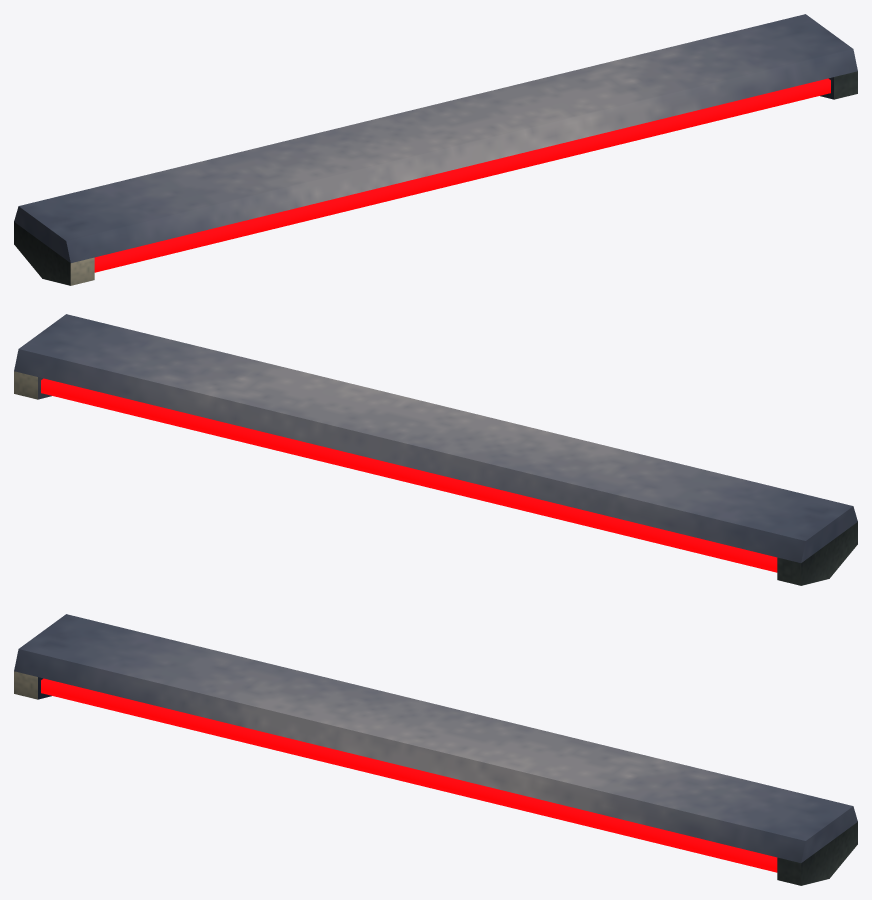
Rendered from SM_PROP_LAMP_04.fbx.
3 renders of one model, top to bottom at view 1: azimuth 30°, elevation 25°; view 2: azimuth 150°, elevation 25°; view 3: azimuth 330°, elevation 25°, orthographic.
Visible parts, largest first — view 1: SM_PROP_LAMP_04; view 2: SM_PROP_LAMP_04; view 3: SM_PROP_LAMP_04.
Part boxes in pixels (x1,y1,x2,y2): SM_PROP_LAMP_04: (14, 14, 857, 285); SM_PROP_LAMP_04: (14, 314, 857, 585); SM_PROP_LAMP_04: (14, 614, 857, 885).
Size of the model in its own units: 4 by 0.2681 by 0.5.
